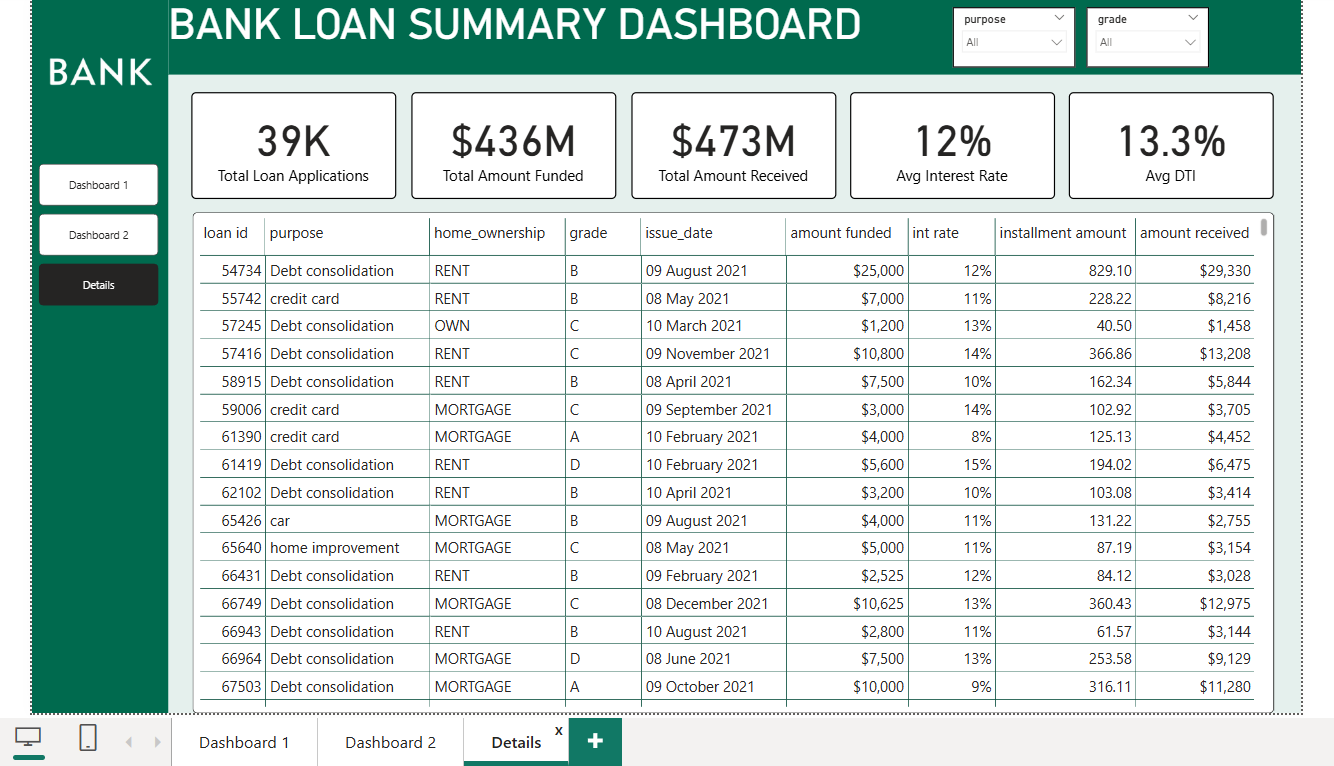

Layout of this report page (visuals, bound fields, positions):
{"tool":"powerbi","page":{"name":"Details","canvas":[1600,900],"ordinal":2},"visuals":[{"type":"shape","box":[0,0,172,900.7],"z":0},{"type":"shape","box":[172,0,1428.5,95.4],"z":1000},{"type":"card","fields":{"Values":["public loan.Total Loan Applications"]},"box":[201.6,117.5,258.8,134.5],"z":2000},{"type":"card","fields":{"Values":["public loan.Total Amount Funded"]},"box":[479.1,117.5,258.8,134.5],"z":3000},{"type":"card","fields":{"Values":["public loan.Total Amount Received"]},"box":[756.7,117.5,258.8,134.5],"z":4000},{"type":"card","fields":{"Values":["public loan.Avg Interest Rate"]},"box":[1032.5,117.5,258.8,134.5],"z":5000},{"type":"card","fields":{"Values":["public loan.Avg DTI"]},"box":[1308.3,117.5,258.8,134.5],"z":6000},{"type":"tableEx","fields":{"Values":["public loan.id","public loan.purpose","public loan.home_ownership","public loan.grade","public loan.issue_date","public loan.Total Amount Funded","public loan.Avg Interest Rate","Sum(public loan.installment)","public loan.Total Amount Received"]},"box":[202.6,269,1363.8,631.7],"z":7000},{"type":"slicer","fields":{"Values":["public loan.purpose"]},"box":[1161.2,10.2,154.9,76.6],"z":8000},{"type":"slicer","fields":{"Values":["public loan.grade"]},"box":[1329.8,10.2,154.9,76.6],"z":9000},{"type":"pageNavigator","box":[8.5,207.7,151.5,180.5],"z":10000},{"type":"image","box":[13.6,20.4,146.4,139.6],"z":11000}]}

Visuals, with their boxes on the page's 1600x900 design canvas (x1, y1, x2, y2). These are canvas units, not pixel positions in the 1334x766 screenshot, which may show the page scaled, cropped or inside an application window:
shape: {"x1": 0, "y1": 0, "x2": 172, "y2": 901}
shape: {"x1": 172, "y1": 0, "x2": 1600, "y2": 95}
card - public loan.Total Loan Applications: {"x1": 202, "y1": 118, "x2": 460, "y2": 252}
card - public loan.Total Amount Funded: {"x1": 479, "y1": 118, "x2": 738, "y2": 252}
card - public loan.Total Amount Received: {"x1": 757, "y1": 118, "x2": 1016, "y2": 252}
card - public loan.Avg Interest Rate: {"x1": 1032, "y1": 118, "x2": 1291, "y2": 252}
card - public loan.Avg DTI: {"x1": 1308, "y1": 118, "x2": 1567, "y2": 252}
tableEx - public loan.id x public loan.purpose: {"x1": 203, "y1": 269, "x2": 1566, "y2": 901}
slicer - public loan.purpose: {"x1": 1161, "y1": 10, "x2": 1316, "y2": 87}
slicer - public loan.grade: {"x1": 1330, "y1": 10, "x2": 1485, "y2": 87}
pageNavigator: {"x1": 8, "y1": 208, "x2": 160, "y2": 388}
image: {"x1": 14, "y1": 20, "x2": 160, "y2": 160}
